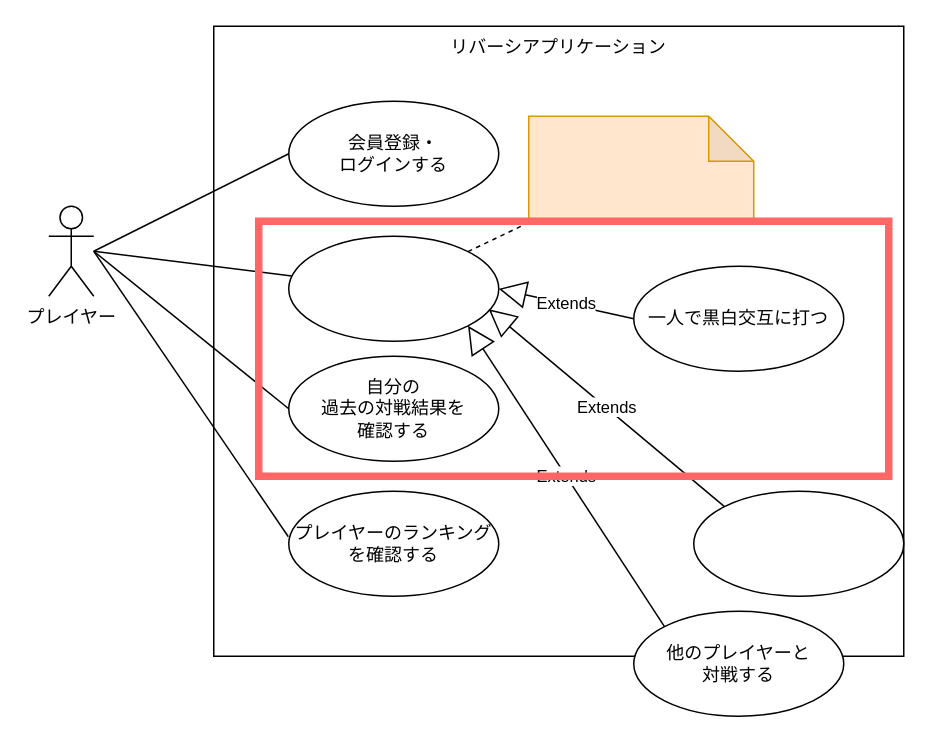
The diagram is 930 pixels wide and 743 high, and some of its shapes have lost their labels. Here are the shapes that lost their labels. From the top down, the box of each, then its label:
(527, 115, 754, 221): ・対戦を開始する ・盤面を見る ・石を打つ ・勝敗を確認する
(287, 235, 499, 341): 対戦する
(692, 490, 904, 596): コンピュータと 対戦する
